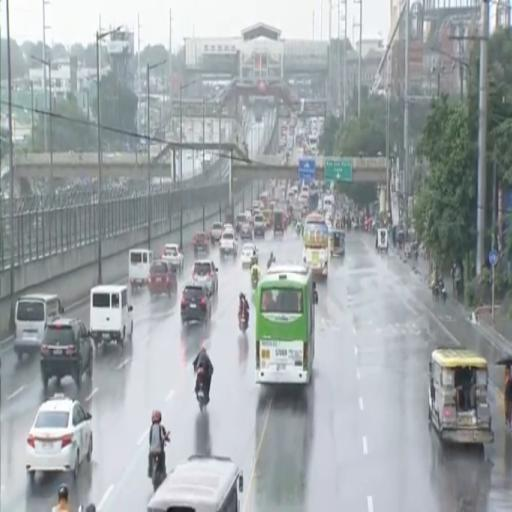bus: (256, 266, 317, 383), (303, 213, 329, 278)
car: (26, 394, 92, 483), (41, 318, 93, 389), (181, 283, 211, 326), (149, 261, 177, 297), (192, 260, 218, 294), (162, 244, 184, 274), (220, 231, 238, 259), (241, 244, 258, 266), (193, 232, 209, 254), (254, 214, 266, 237), (210, 222, 223, 243), (235, 213, 247, 233), (240, 223, 253, 239), (223, 223, 234, 232)
jeepney: (429, 347, 494, 444), (330, 229, 345, 255), (263, 210, 273, 229)
motorcycle: (152, 454, 166, 491), (197, 366, 208, 412), (433, 280, 446, 301), (239, 312, 248, 332), (454, 279, 462, 298), (252, 274, 258, 290), (267, 258, 275, 269), (296, 223, 302, 237), (251, 256, 258, 267)
